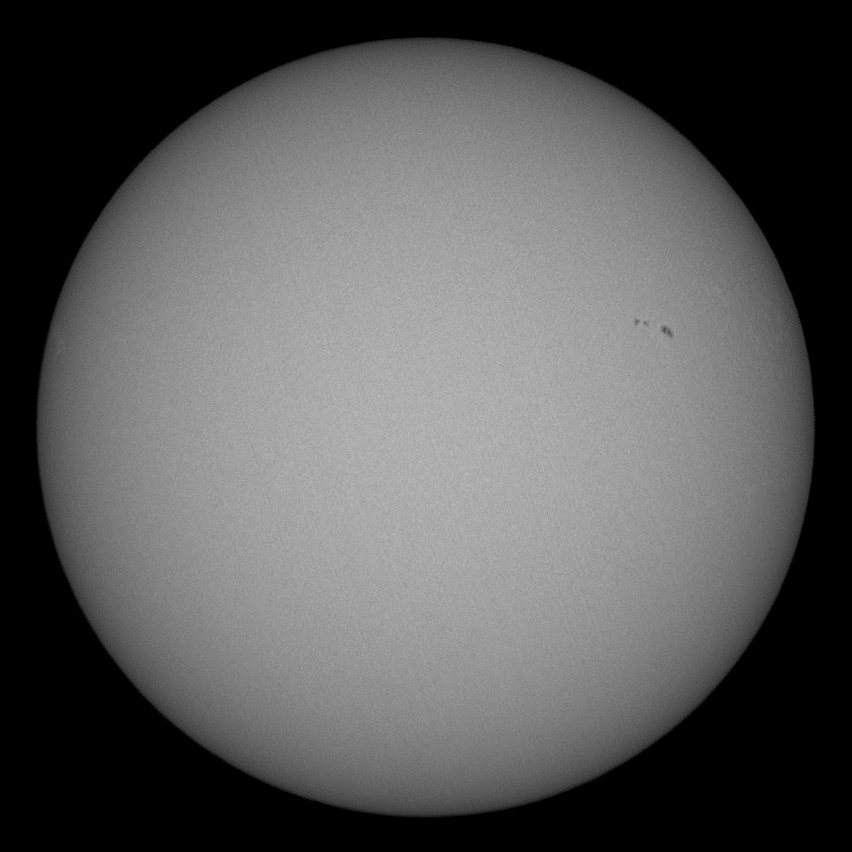sunspot: (628, 314, 680, 340)
